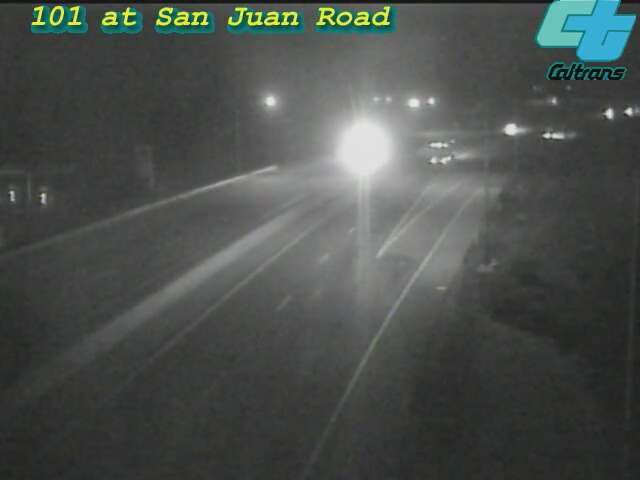vehicle: (333, 123, 383, 173), (488, 105, 538, 155), (528, 111, 578, 161), (420, 125, 470, 175), (584, 90, 634, 140)
